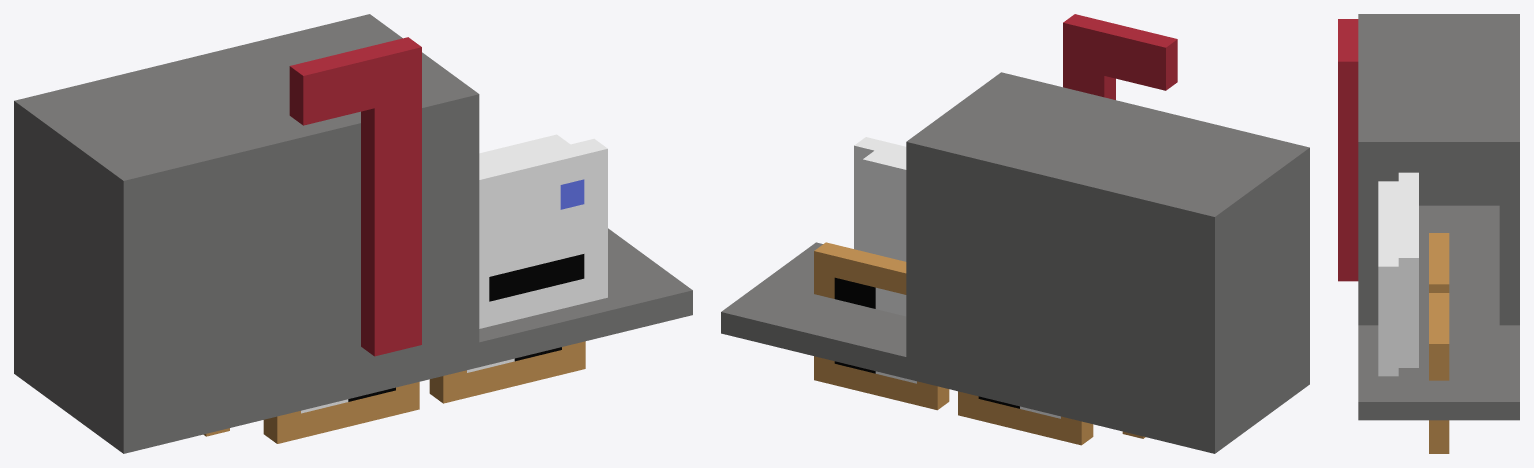
Rendered from mailbox.glb.
3 renders of one model, left to right at view 1: azimuth 30°, elevation 25°; view 2: azimuth 150°, elevation 25°; view 3: azimuth 270°, elevation 25°, orthographic. The views are drawn at different scales.
Visible parts, largest first — view 1: base, red, glasses, layer-2; view 2: base, glasses, red, layer-2; view 3: base, red, glasses.
Boxes of the visible parts, x1=… form: base: x1=14, y1=14, x2=692, y2=453; red: x1=289, y1=37, x2=421, y2=356; glasses: x1=203, y1=341, x2=585, y2=443; layer-2: x1=301, y1=347, x2=561, y2=413; base: x1=721, y1=72, x2=1309, y2=453; glasses: x1=814, y1=242, x2=1145, y2=445; red: x1=1063, y1=14, x2=1177, y2=99; layer-2: x1=834, y1=277, x2=1060, y2=418; base: x1=1358, y1=14, x2=1519, y2=420; red: x1=1338, y1=19, x2=1358, y2=281; glasses: x1=1429, y1=233, x2=1449, y2=453.
Size of the model in its own units: 24 by 17 by 9.
9 materials, 9 textured.
